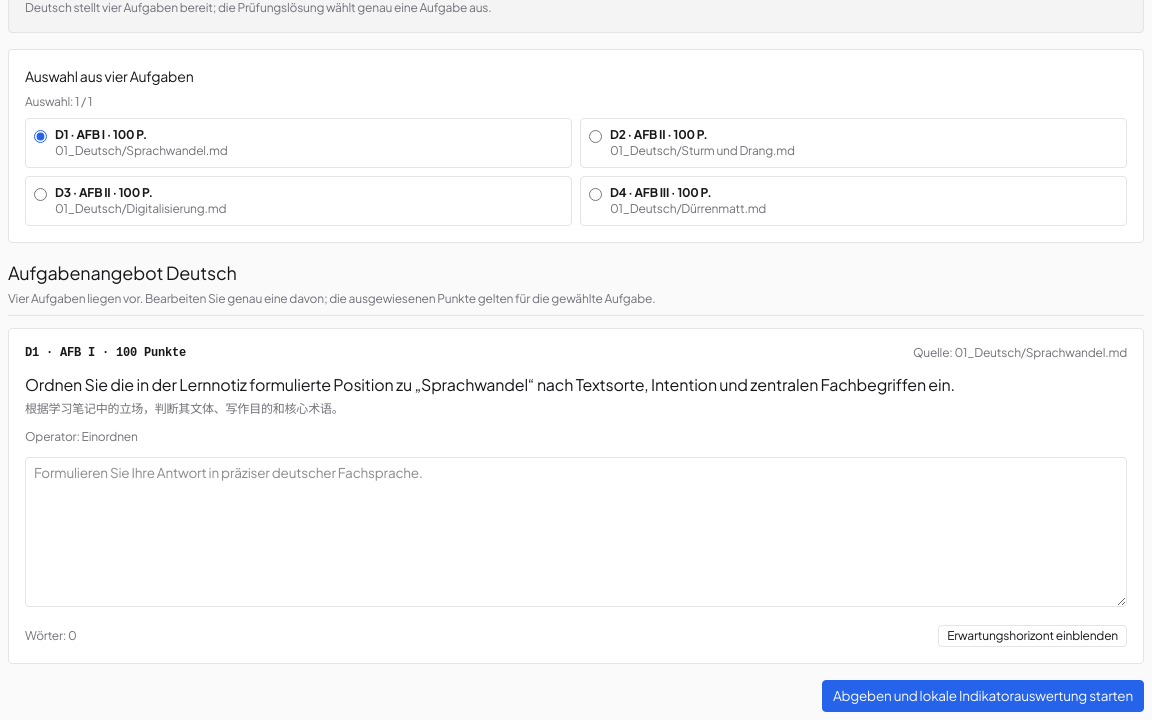
generated exam citation honesty › keeps every composed task under a self-composed practice disclosure without real-paper claims
(page scrolled)
expect the element that starts with "AFB I" shows "Quelle: 01_Deutsch/": met, box [8,328,1144,664]
expect the element that starts with "AFB I" shows "Punkte": met, box [137,346,186,360]
Click the button "Abgeben und lokale Indikatorauswertung starten": point(983, 696) [822,680,1144,712]
(page scrolled)
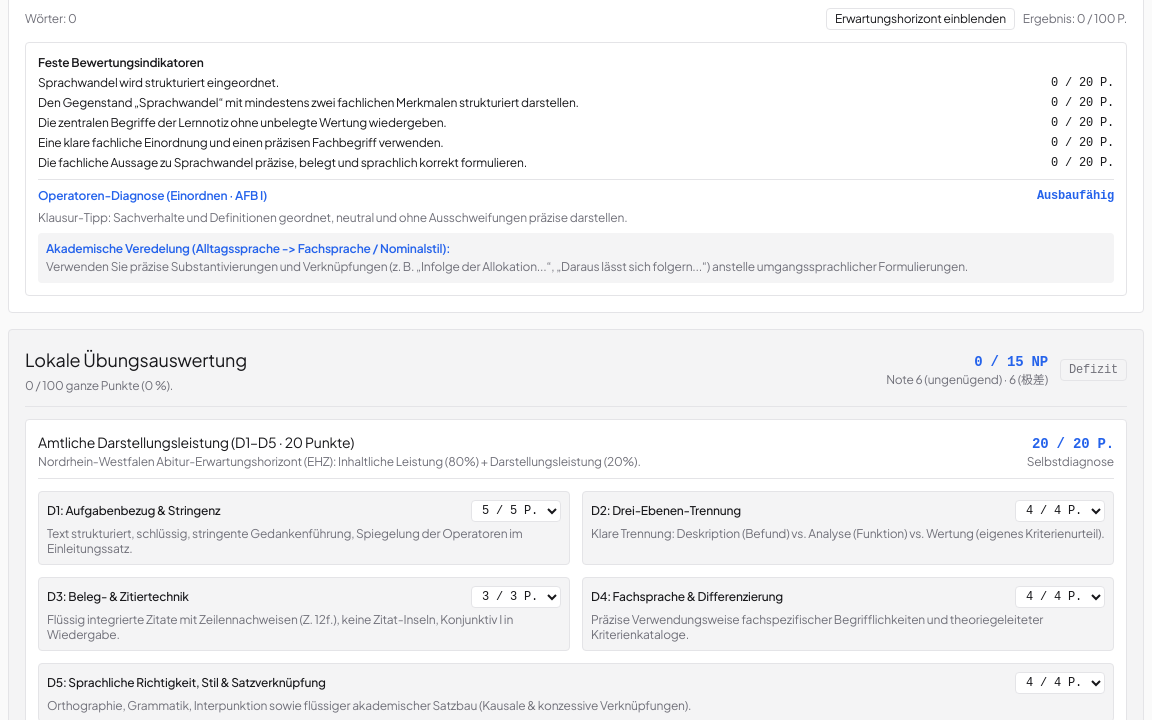
expect the heading "Lokale Übungsauswertung" is shown: met, box [25,346,247,374]
